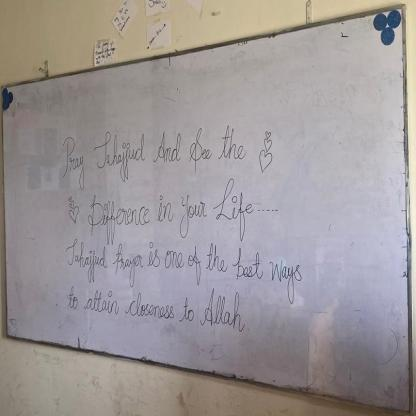Handwritten text: (61, 223, 313, 308), (54, 104, 254, 188), (59, 280, 253, 343), (82, 175, 259, 240)
Whiteboard: (0, 6, 412, 416)
